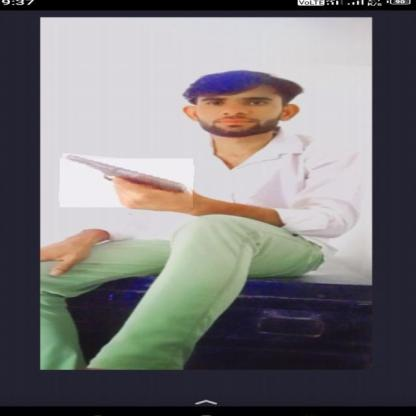handgun: (59, 156, 194, 210)
